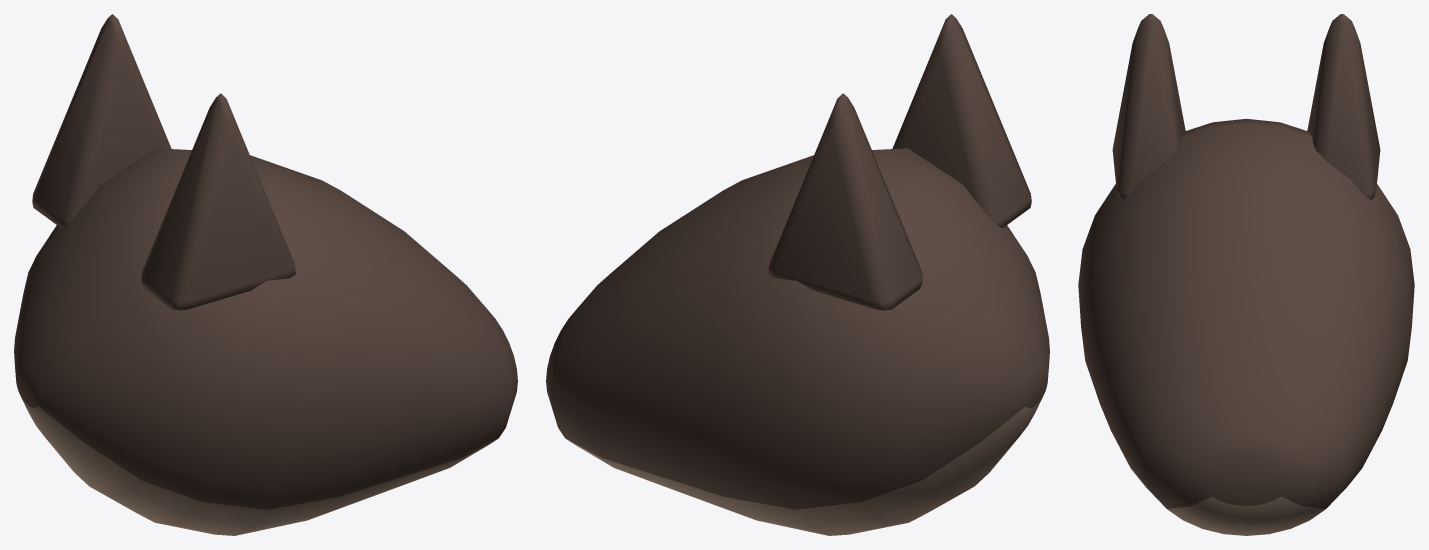
Rendered from beast-head.glb.
3 renders of one model, left to right at view 1: azimuth 30°, elevation 25°; view 2: azimuth 150°, elevation 25°; view 3: azimuth 270°, elevation 25°, orthographic. The views are drawn at different scales.
Visible parts, largest first — view 1: beast-head; view 2: beast-head; view 3: beast-head.
Part boxes in pixels (x1,y1,x2,y2): beast-head: [14, 14, 517, 535]; beast-head: [546, 14, 1049, 535]; beast-head: [1078, 14, 1414, 535].
Bounding box in the file's own units: 0.53 × 0.5258 × 0.38.
